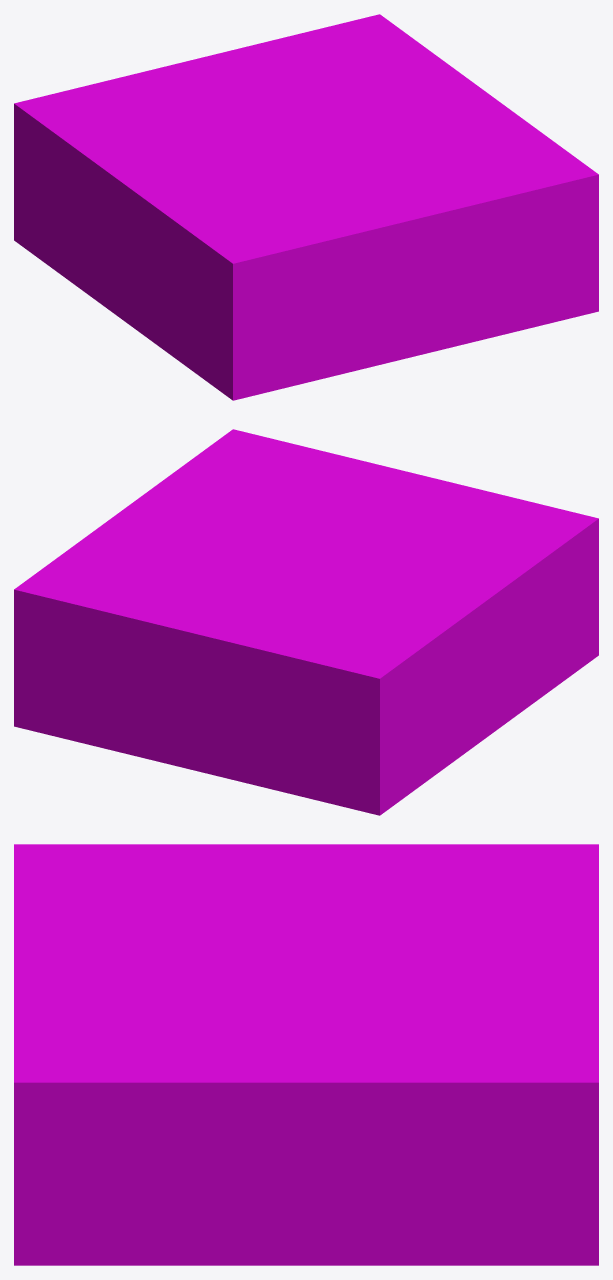
File: SM_MedicalTrayBoomBaseCollider.fbx
3 renders of one model, top to bottom at view 1: azimuth 30°, elevation 25°; view 2: azimuth 150°, elevation 25°; view 3: azimuth 270°, elevation 25°, orthographic. The views are drawn at different scales.
Parts seen in each view (by area): view 1: MedicalTrayBoomBaseCollision; view 2: MedicalTrayBoomBaseCollision; view 3: MedicalTrayBoomBaseCollision.
Part boxes in pixels (x1=…): MedicalTrayBoomBaseCollision: x1=14, y1=14, x2=598, y2=400; MedicalTrayBoomBaseCollision: x1=14, y1=429, x2=598, y2=815; MedicalTrayBoomBaseCollision: x1=14, y1=844, x2=598, y2=1265.
Size of the model in its own units: 34.92 by 12.49 by 36.22.
